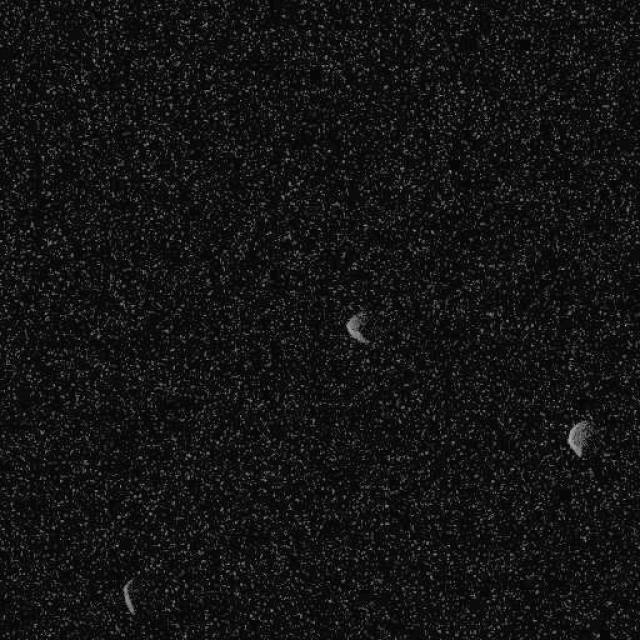D2: (566, 419, 592, 459), (344, 311, 371, 344), (122, 576, 136, 615)
